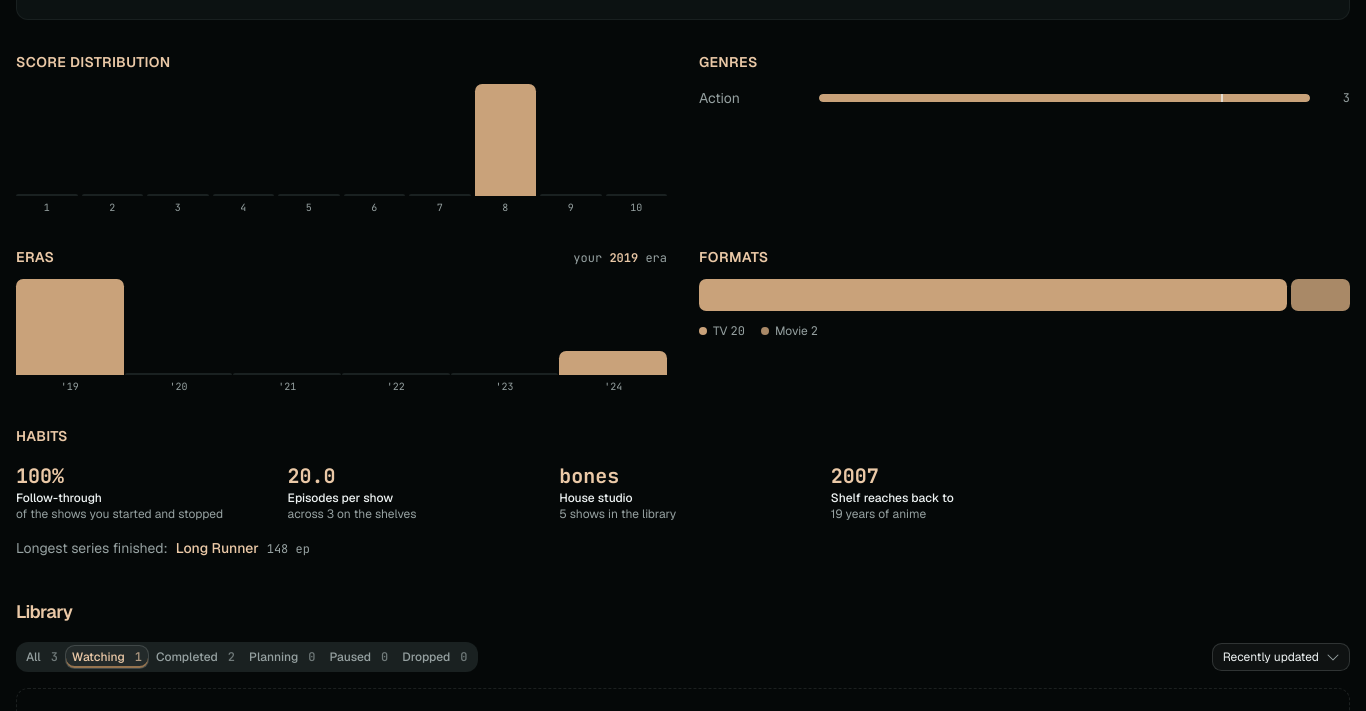
Test case: ProfileView › an era click filters the library to completed shows of that year
(page scrolled)
Click the button named "4 completed from 2019".
click(70, 327)  # box [16,279,124,375]
(page scrolled)
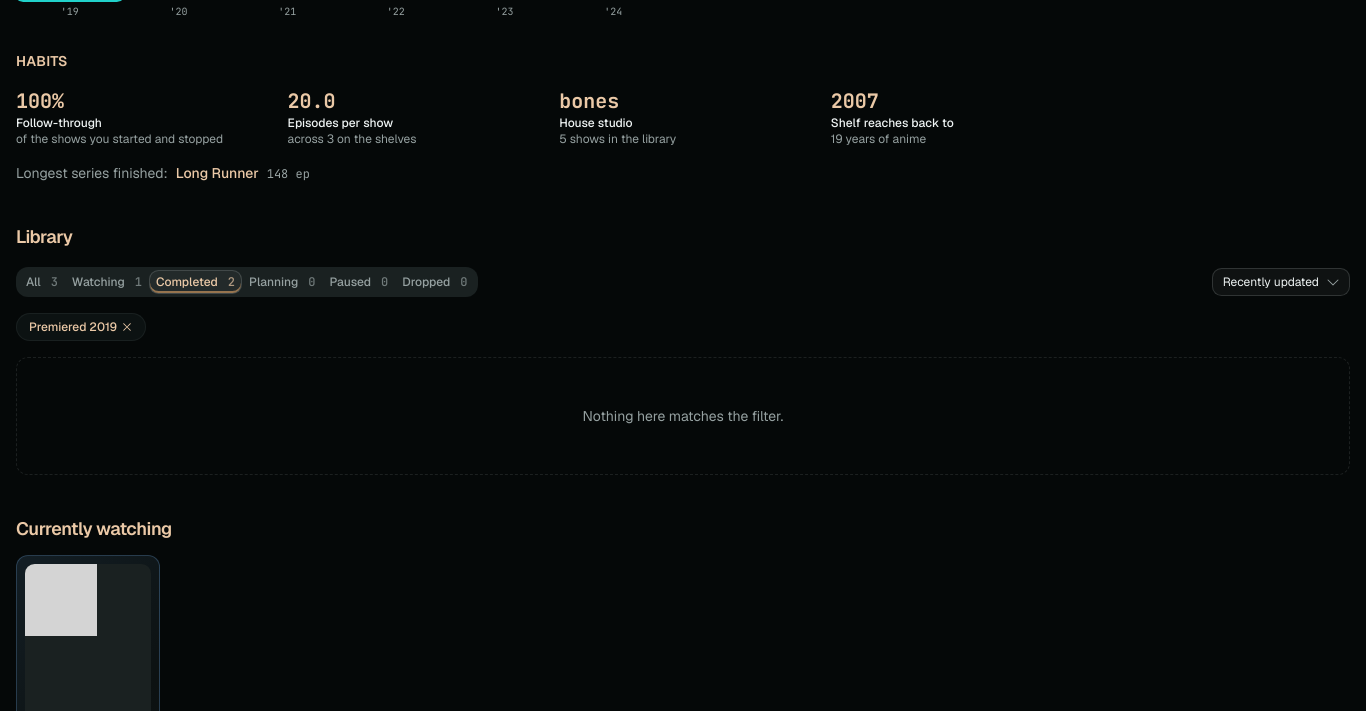
Now the button "Premiered 2019" is shown, box [16,313,146,341]
